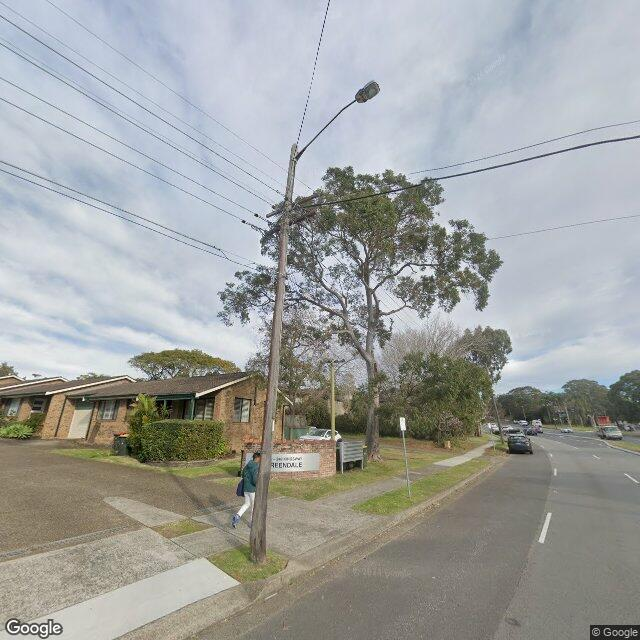crossarm: (266, 192, 324, 219), (264, 210, 318, 236)
streetlight: (291, 80, 381, 163)
timber-pole: (249, 144, 298, 564)
